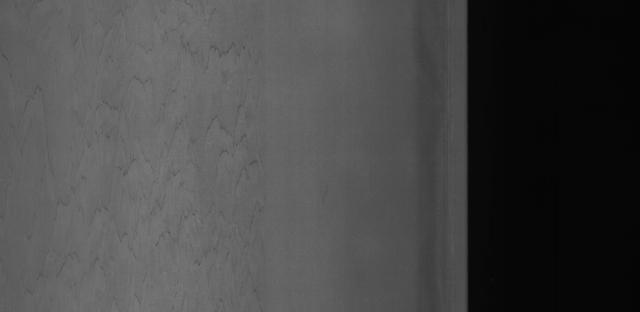silk_spot: (54, 36, 276, 263)
